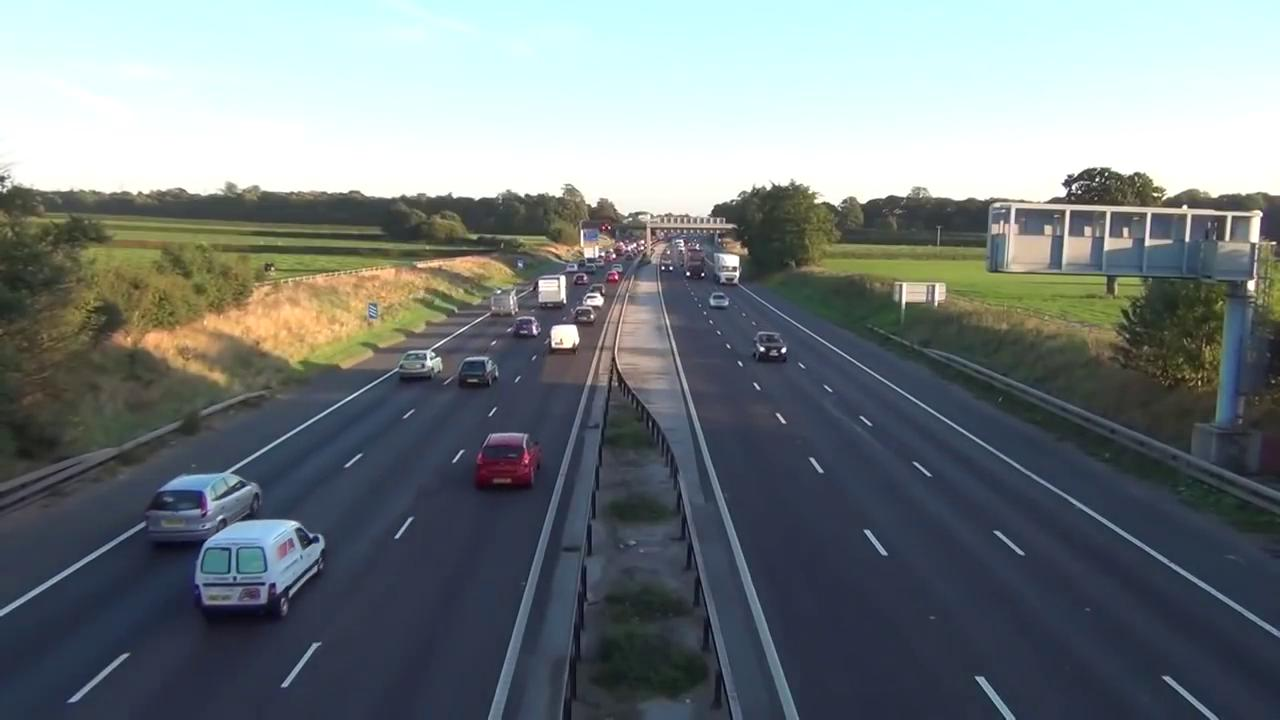car: (186, 517, 330, 620), (145, 474, 266, 540), (395, 348, 443, 381), (456, 358, 498, 388), (751, 332, 785, 361), (480, 432, 528, 450), (547, 325, 579, 351), (491, 288, 519, 316), (513, 319, 541, 339), (577, 307, 600, 323), (584, 293, 605, 307), (708, 295, 727, 308)
truck: (533, 276, 568, 309), (715, 252, 743, 286)
